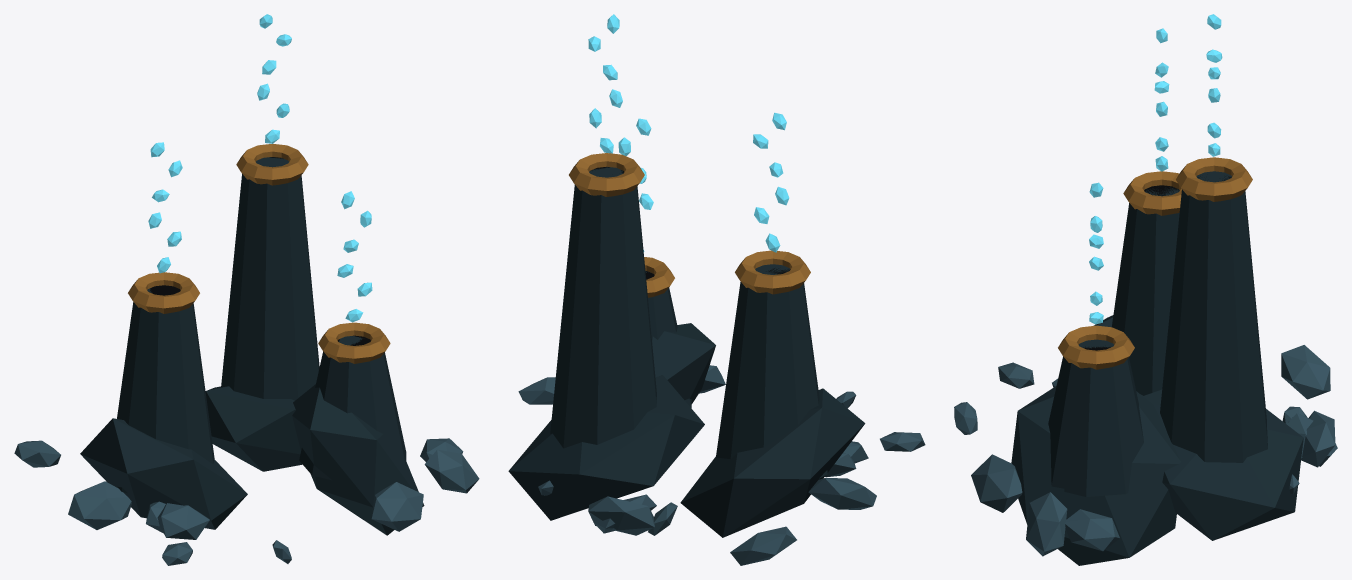
The model's file is 06_hydrothermal_vents.glb.
The picture shows the model from 3 angles, left to right: view 1: azimuth 30°, elevation 25°; view 2: azimuth 150°, elevation 25°; view 3: azimuth 270°, elevation 25°; orthographic projection. The views are drawn at different scales.
Parts seen in each view (by area): view 1: VentChimney.001, VentChimney, VentBase, VentBase.002, VentBase.001, VentChimney.002, BrokenStone.061, MineralVentLip.001, MineralVentLip, MineralVentLip.002, BrokenStone.071, BrokenStone.070 (+2 smaller); view 2: VentChimney.001, VentChimney, VentBase.001, VentBase, VentBase.002, MineralVentLip.001, MineralVentLip, BrokenStone.068, BrokenStone.061, BrokenStone.065, VentChimney.002, MineralVentLip.002 (+2 smaller); view 3: VentChimney.001, VentBase.002, VentChimney.002, VentBase.001, VentChimney, MineralVentLip.001, MineralVentLip.002, BrokenStone.071, BrokenStone.070, BrokenStone.065, MineralVentLip, BrokenStone.069 (+4 smaller).
Part boxes in pixels (box(x1,y1,x2,y2)): VentChimney.001: box(221, 157, 319, 400); VentChimney: box(117, 288, 214, 493); VentBase: box(80, 418, 247, 529); VentBase.002: box(292, 384, 424, 535); VentBase.001: box(205, 386, 302, 471); VentChimney.002: box(299, 336, 406, 480); BrokenStone.061: box(68, 481, 131, 529); MineralVentLip.001: box(236, 144, 308, 185); MineralVentLip: box(128, 272, 199, 313); MineralVentLip.002: box(318, 322, 390, 363); BrokenStone.071: box(371, 482, 423, 531); BrokenStone.070: box(424, 449, 479, 493); VentChimney.001: box(550, 167, 656, 448); VentChimney: box(716, 264, 827, 478); VentBase.001: box(508, 375, 704, 520); VentBase: box(680, 388, 865, 537); VentBase.002: box(651, 323, 715, 403); MineralVentLip.001: box(569, 153, 644, 196); MineralVentLip: box(735, 250, 810, 294); BrokenStone.068: box(588, 496, 654, 535); BrokenStone.061: box(808, 478, 876, 509); BrokenStone.065: box(730, 526, 796, 565); VentChimney.002: box(645, 271, 691, 407); MineralVentLip.002: box(644, 257, 674, 297); VentChimney.001: box(1160, 171, 1267, 462); VentBase.002: box(1011, 386, 1180, 565); VentChimney.002: box(1048, 339, 1143, 496); VentBase.001: box(1143, 389, 1303, 540); VentChimney: box(1112, 187, 1179, 395); MineralVentLip.001: box(1176, 157, 1252, 201); MineralVentLip.002: box(1058, 325, 1134, 369); BrokenStone.071: box(971, 454, 1022, 512); BrokenStone.070: box(1026, 492, 1067, 556); BrokenStone.065: box(1281, 345, 1330, 399); MineralVentLip: box(1123, 171, 1181, 215); BrokenStone.069: box(1065, 509, 1119, 551).
Size of the model in its own units: 6.78 by 8.78 by 5.86.
Materials: 5 (5 with a texture image).
